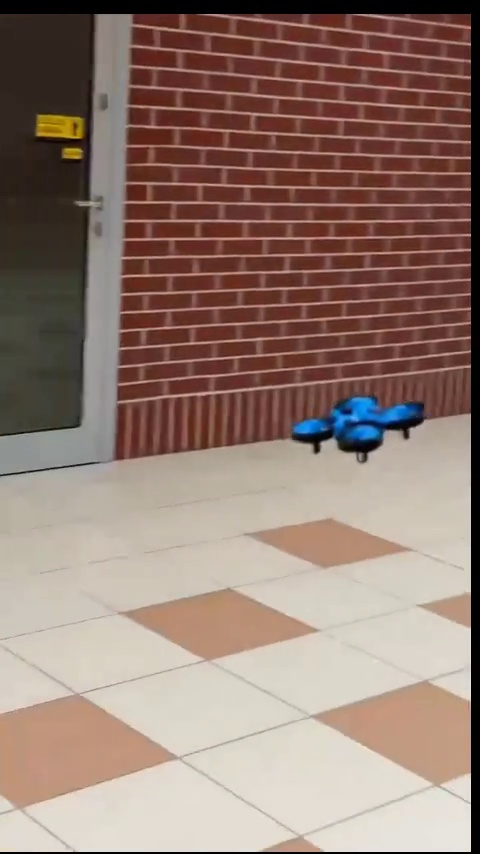drone: (293, 392, 419, 461)
